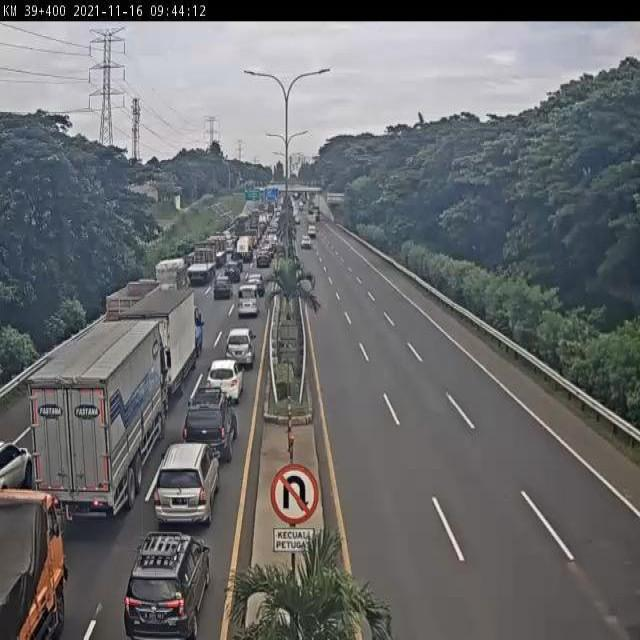car: (119, 522, 212, 638), (147, 439, 228, 525), (189, 375, 236, 455), (0, 441, 35, 499), (209, 353, 247, 403), (227, 324, 258, 373), (235, 282, 266, 322), (215, 275, 233, 303), (301, 232, 314, 253), (308, 223, 318, 237)
truck: (24, 324, 175, 523), (0, 473, 68, 640), (126, 290, 205, 386), (108, 276, 161, 316), (155, 259, 187, 304), (187, 240, 218, 283)
